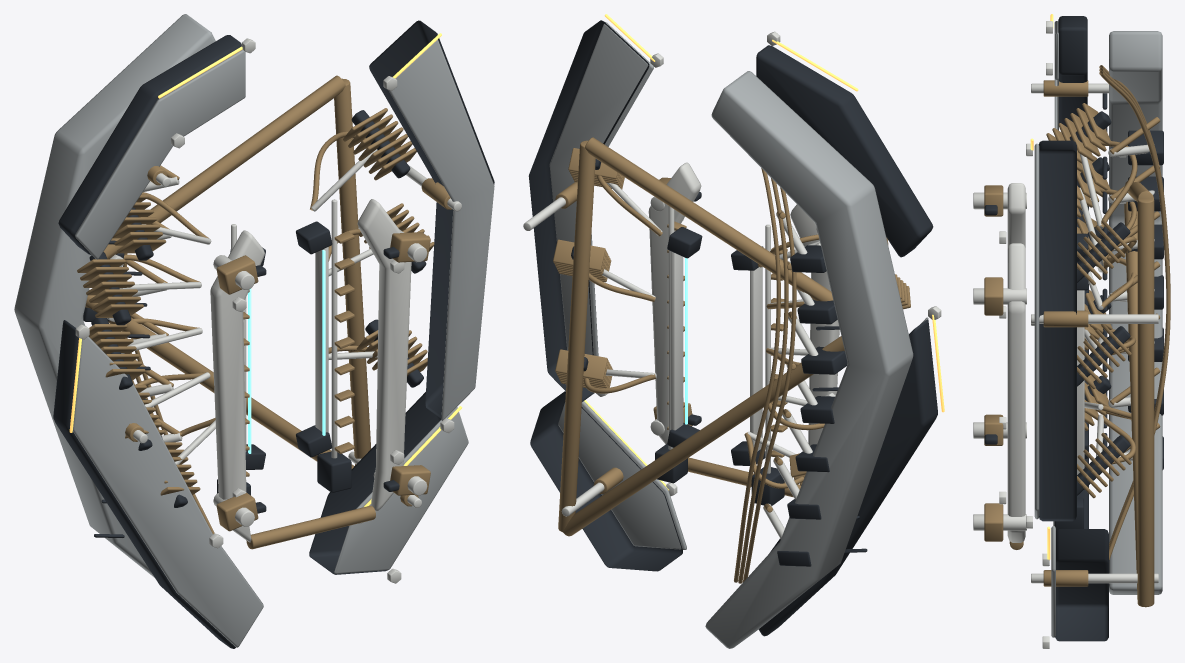
File: the-core-v1.5.glb
3 views of the same model, side by side, from view 1: azimuth 30°, elevation 25°; view 2: azimuth 150°, elevation 25°; view 3: azimuth 270°, elevation 25° (orthographic). The views are drawn at different scales.
Parts seen in each view (by area): view 1: Stator_Rear.002_V15_Mesh, Shell_01.002_V15_Mesh, Shell_02.002_V15_Mesh, Rotor_Front.002_V15_Mesh, Shell_00.002_V15_Mesh, Shell_03.002_V15_Mesh, Induction_Ring.002_V15_Mesh, Coil_05.002_V15_Mesh, Coil_01.002_V15_Mesh, Coil_02.002_V15_Mesh, Coil_00.002_V15_Mesh, Coil_07.002_V15_Mesh (+7 smaller); view 2: Stator_Rear.002_V15_Mesh, Shell_02.002_V15_Mesh, Shell_03.002_V15_Mesh, Shell_00.002_V15_Mesh, Induction_Ring.002_V15_Mesh, Shell_01.002_V15_Mesh, Rotor_Front.002_V15_Mesh, Coil_06.002_V15_Mesh, Coil_07.002_V15_Mesh, Coil_05.002_V15_Mesh, Coil_04.002_V15_Mesh; view 3: Stator_Rear.002_V15_Mesh, Shell_02.002_V15_Mesh, Shell_03.002_V15_Mesh, Rotor_Front.002_V15_Mesh, Shell_00.002_V15_Mesh, Coil_00.002_V15_Mesh, Coil_07.002_V15_Mesh, Coil_05.002_V15_Mesh, Induction_Ring.002_V15_Mesh, Coil_06.002_V15_Mesh, Coil_01.002_V15_Mesh, Shell_07.002_V15_Mesh (+7 smaller).
Boxes of the visible parts, <box> form: Stator_Rear.002_V15_Mesh: <box>14,14,371,577</box>; Shell_01.002_V15_Mesh: <box>53,320,263,648</box>; Shell_02.002_V15_Mesh: <box>369,20,494,433</box>; Rotor_Front.002_V15_Mesh: <box>210,199,411,549</box>; Shell_00.002_V15_Mesh: <box>58,35,255,259</box>; Shell_03.002_V15_Mesh: <box>309,392,468,583</box>; Induction_Ring.002_V15_Mesh: <box>217,199,354,495</box>; Coil_05.002_V15_Mesh: <box>310,108,416,211</box>; Coil_01.002_V15_Mesh: <box>77,252,201,325</box>; Coil_02.002_V15_Mesh: <box>88,318,202,389</box>; Coil_00.002_V15_Mesh: <box>112,192,211,260</box>; Coil_07.002_V15_Mesh: <box>328,319,427,387</box>; Stator_Rear.002_V15_Mesh: <box>558,71,913,648</box>; Shell_02.002_V15_Mesh: <box>523,14,663,401</box>; Shell_03.002_V15_Mesh: <box>530,391,686,571</box>; Shell_00.002_V15_Mesh: <box>756,31,933,257</box>; Induction_Ring.002_V15_Mesh: <box>655,206,787,505</box>; Shell_01.002_V15_Mesh: <box>758,306,944,636</box>; Rotor_Front.002_V15_Mesh: <box>648,162,839,497</box>; Coil_06.002_V15_Mesh: <box>553,239,655,301</box>; Coil_07.002_V15_Mesh: <box>555,349,656,393</box>; Coil_05.002_V15_Mesh: <box>568,148,662,236</box>; Coil_04.002_V15_Mesh: <box>744,431,806,488</box>; Stator_Rear.002_V15_Mesh: <box>1099,31,1170,607</box>; Shell_02.002_V15_Mesh: <box>1026,138,1158,528</box>; Shell_03.002_V15_Mesh: <box>1031,526,1158,648</box>; Rotor_Front.002_V15_Mesh: <box>999,183,1025,549</box>; Shell_00.002_V15_Mesh: <box>1031,14,1108,130</box>; Coil_00.002_V15_Mesh: <box>1046,103,1137,228</box>; Coil_07.002_V15_Mesh: <box>1077,414,1135,498</box>; Coil_05.002_V15_Mesh: <box>1077,220,1136,285</box>; Induction_Ring.002_V15_Mesh: <box>1054,233,1088,530</box>; Coil_06.002_V15_Mesh: <box>1077,324,1135,389</box>; Coil_01.002_V15_Mesh: <box>1077,155,1136,263</box>; Shell_07.002_V15_Mesh: <box>973,503,1026,541</box>.
Bounding box in the file's own units: 3.68 × 5.12 × 1.54.
